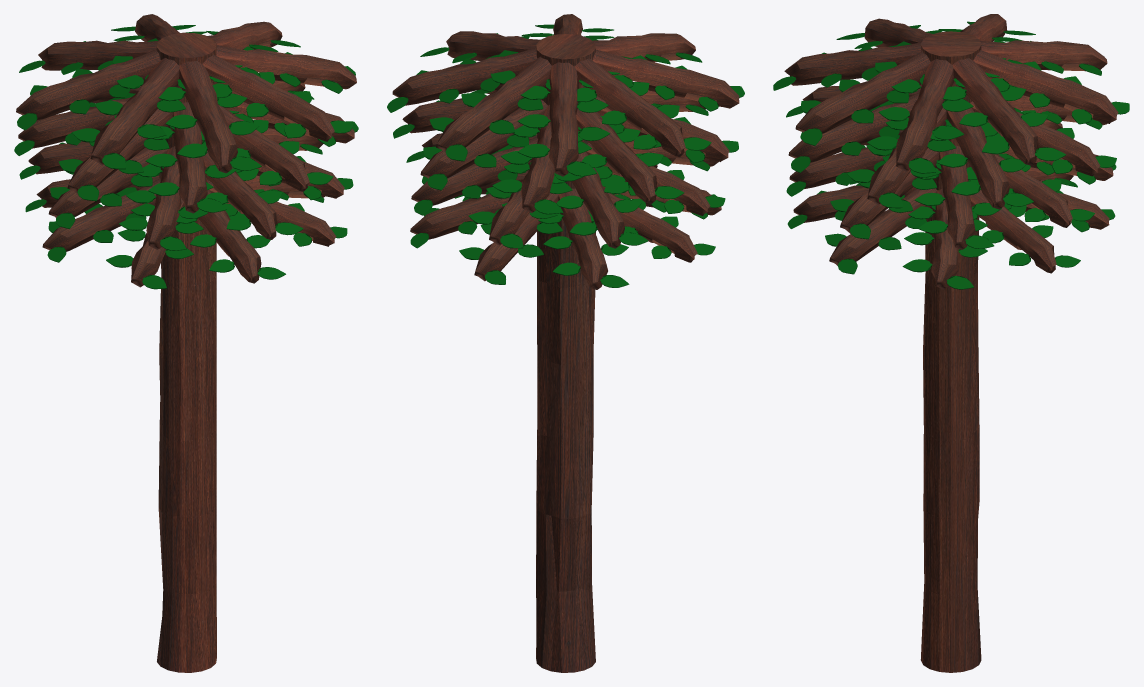
The picture shows the model from 3 angles, left to right: view 1: azimuth 30°, elevation 25°; view 2: azimuth 150°, elevation 25°; view 3: azimuth 270°, elevation 25°; orthographic projection.
Visible parts, largest first — view 1: 木ﾊﾟﾀｰﾝ３, 柱_29, 柱_32, 柱_31, 柱_30, 柱_28, 柱_25, 柱_7, 柱_21, 柱_13, 柱_22, 柱_24 (+11 smaller); view 2: 木ﾊﾟﾀｰﾝ３, 柱_32, 柱_31, 柱_26, 柱_27, 柱_25, 柱_24, 柱_30, 柱_16, 柱_18, 柱_8, 柱_10 (+11 smaller); view 3: 木ﾊﾟﾀｰﾝ３, 柱_26, 柱_29, 柱_27, 柱_28, 柱_30, 柱_25, 柱_19, 柱_21, 柱_2, 柱_4, 柱_11 (+11 smaller).
Boxes of the visible parts, x1,y1,x2,y2 form: 木ﾊﾟﾀｰﾝ３: (156, 32, 216, 672); 柱_29: (202, 54, 334, 141); 柱_32: (16, 49, 160, 120); 柱_31: (90, 58, 179, 165); 柱_30: (179, 61, 237, 173); 柱_28: (216, 45, 356, 89); 柱_25: (38, 40, 158, 70); 柱_7: (42, 178, 160, 251); 柱_21: (218, 104, 309, 191); 柱_13: (203, 150, 276, 239); 柱_22: (172, 102, 207, 213); 柱_24: (18, 97, 131, 148); 木ﾊﾟﾀｰﾝ３: (536, 34, 595, 672); 柱_32: (574, 58, 685, 157); 柱_31: (592, 49, 739, 108); 柱_26: (436, 56, 551, 153); 柱_27: (392, 47, 537, 105); 柱_25: (549, 62, 578, 176); 柱_24: (576, 108, 656, 203); 柱_30: (592, 33, 695, 62); 柱_16: (571, 151, 624, 248); 柱_18: (420, 99, 547, 178); 柱_8: (558, 188, 607, 289); 柱_10: (411, 136, 537, 205); 木ﾊﾟﾀｰﾝ３: (920, 31, 981, 672); 柱_26: (973, 50, 1118, 123); 柱_29: (795, 51, 930, 133); 柱_27: (952, 58, 1038, 165); 柱_28: (895, 59, 954, 171); 柱_30: (784, 42, 921, 85); 柱_25: (980, 40, 1107, 71); 柱_19: (946, 108, 1009, 209); 柱_21: (788, 92, 919, 162); 柱_2: (969, 189, 1056, 273); 柱_4: (829, 188, 936, 265); 柱_11: (938, 145, 975, 249).
Size of the model in its own units: 529 by 1008 by 529.
Materials: 2 (1 with a texture image).
